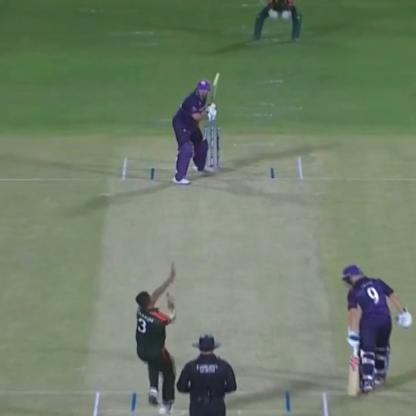bat: (342, 338, 368, 397), (201, 66, 227, 112)
pitch: (82, 146, 333, 416)
